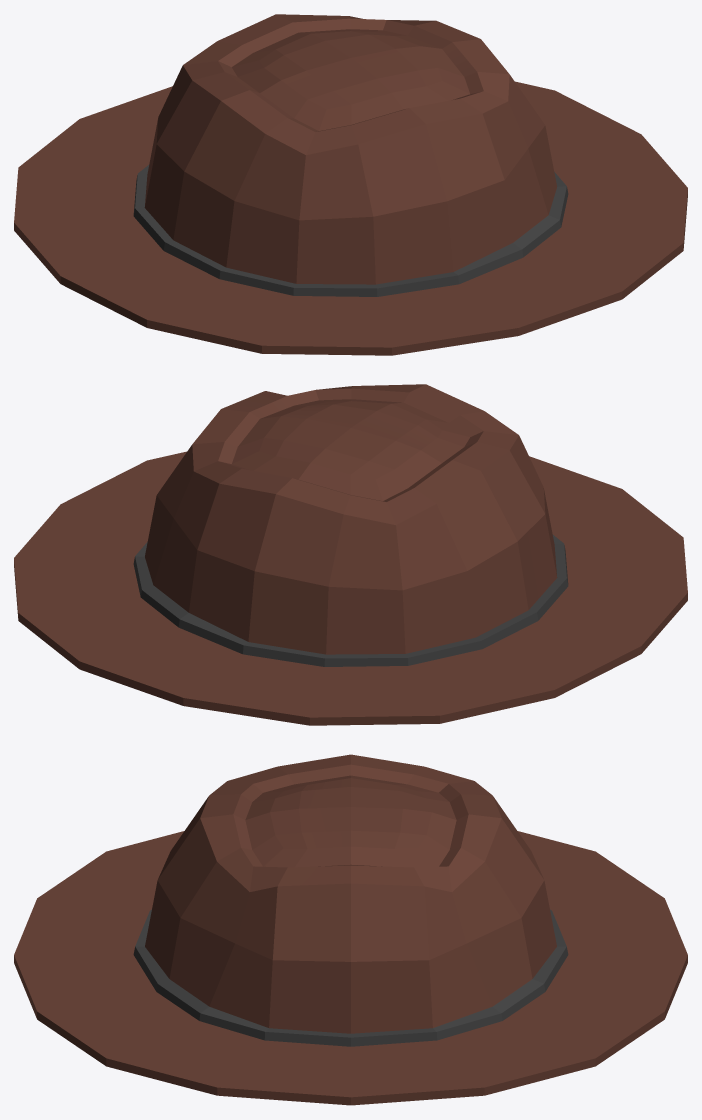
The model's file is BrownHat.fbx.
3 renders of one model, top to bottom at view 1: azimuth 30°, elevation 25°; view 2: azimuth 150°, elevation 25°; view 3: azimuth 270°, elevation 25°, orthographic.
Parts seen in each view (by area): view 1: Cube.001, Cube.002; view 2: Cube.001, Cube.002; view 3: Cube.001, Cube.002.
Part boxes in pixels (bbox=[...]): Cube.001: bbox=[14, 14, 687, 355]; Cube.002: bbox=[133, 164, 568, 296]; Cube.001: bbox=[14, 384, 687, 725]; Cube.002: bbox=[133, 534, 568, 666]; Cube.001: bbox=[14, 754, 687, 1105]; Cube.002: bbox=[133, 909, 568, 1046].
Bounding box in the file's own units: 334 × 85.31 × 334.
